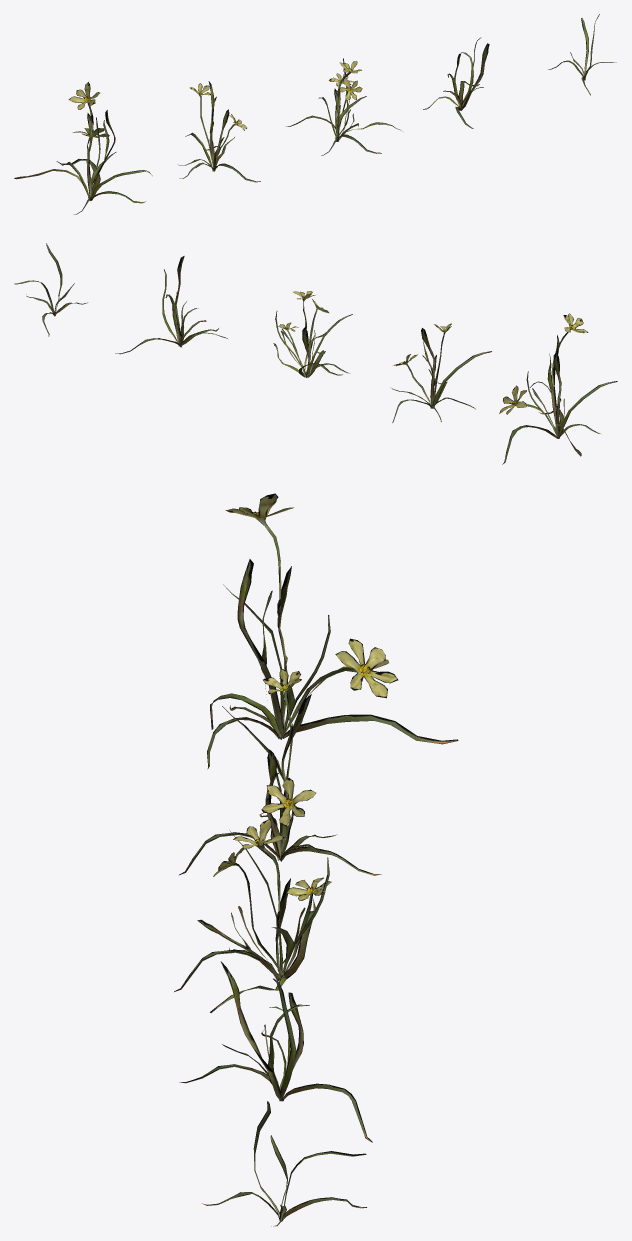
File: flower_empodium.glb
3 views of the same model, one above another, from view 1: azimuth 30°, elevation 25°; view 2: azimuth 150°, elevation 25°; view 3: azimuth 270°, elevation 25° (orthographic). The views are drawn at different scales.
Parts seen in each view (by area): view 1: flower_empodium_a_LOD0, flower_empodium_c_LOD0, flower_empodium_b_LOD0, flower_empodium_d_LOD0, flower_empodium_e_LOD0; view 2: flower_empodium_a_LOD0, flower_empodium_c_LOD0, flower_empodium_b_LOD0, flower_empodium_d_LOD0, flower_empodium_e_LOD0; view 3: flower_empodium_a_LOD0, flower_empodium_c_LOD0, flower_empodium_b_LOD0, flower_empodium_d_LOD0, flower_empodium_e_LOD0.
Part boxes in pixels (x1,y1,x2,y2): flower_empodium_a_LOD0: (14, 82, 152, 214); flower_empodium_c_LOD0: (286, 58, 401, 155); flower_empodium_b_LOD0: (178, 81, 260, 182); flower_empodium_d_LOD0: (423, 37, 489, 128); flower_empodium_e_LOD0: (548, 14, 616, 95); flower_empodium_a_LOD0: (499, 313, 617, 464); flower_empodium_c_LOD0: (273, 291, 352, 377); flower_empodium_b_LOD0: (390, 323, 491, 422); flower_empodium_d_LOD0: (115, 256, 227, 354); flower_empodium_e_LOD0: (14, 243, 88, 336); flower_empodium_a_LOD0: (207, 493, 458, 769); flower_empodium_c_LOD0: (174, 818, 331, 1012); flower_empodium_b_LOD0: (179, 669, 381, 875); flower_empodium_d_LOD0: (179, 961, 372, 1142); flower_empodium_e_LOD0: (202, 1101, 366, 1226).
Bounding box in the file's own units: 1.32 × 0.2684 × 0.2841.
Materials: 1 (1 with a texture image).
